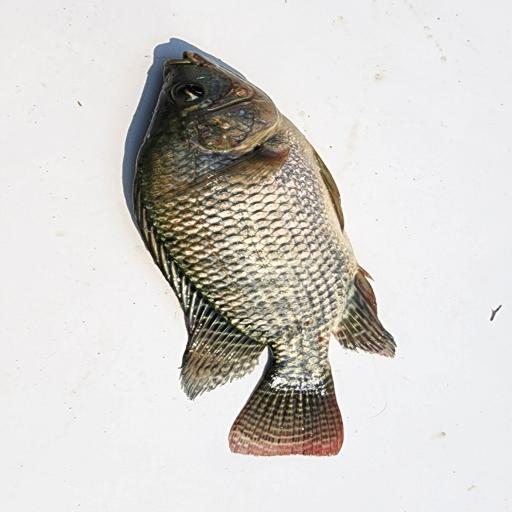Tilapia: (133, 50, 397, 458)
